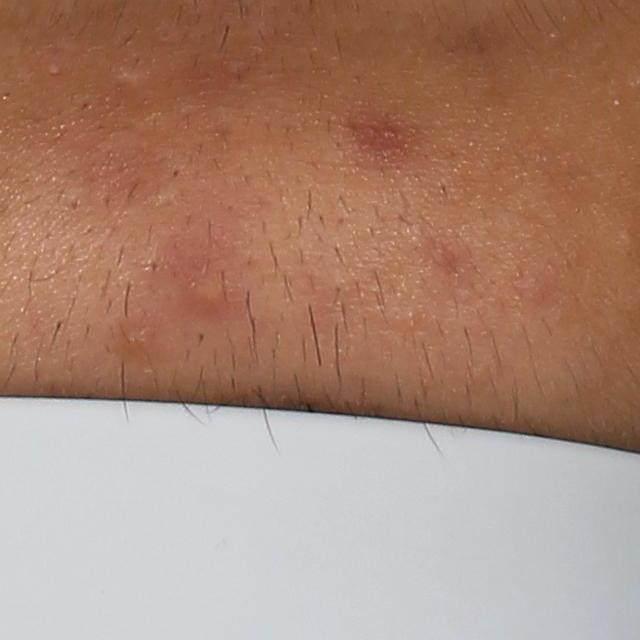comedo: (169, 165, 182, 179)
hypertrophic_scar: (113, 65, 165, 95)
pustule: (166, 261, 237, 318)
